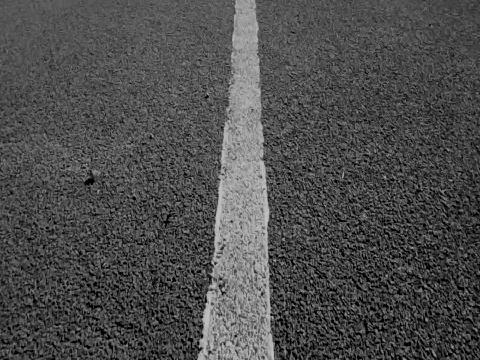Lines: (201, 0, 275, 360)
